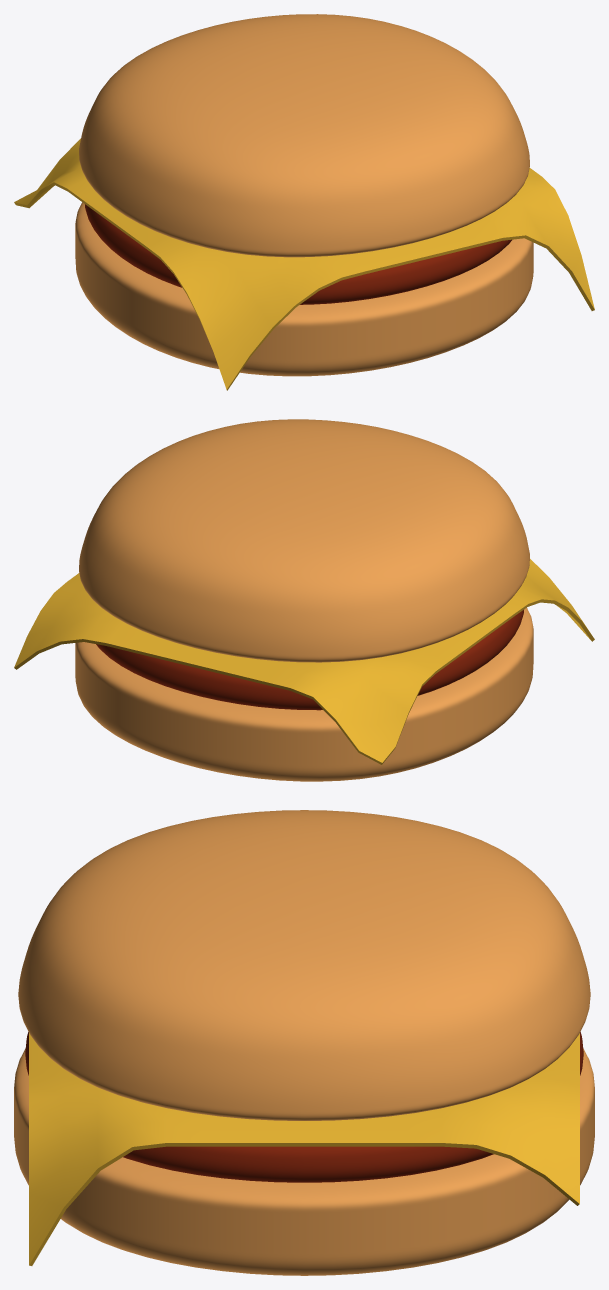
Rendered from hamburger.glb.
3 views of the same model, one above another, from view 1: azimuth 30°, elevation 25°; view 2: azimuth 150°, elevation 25°; view 3: azimuth 270°, elevation 25° (orthographic). The views are drawn at different scales.
Parts seen in each view (by area): view 1: Cube.003, Cube, Plane, Cube.002; view 2: Cube.003, Cube, Plane, Cube.002; view 3: Cube.003, Cube, Plane, Cube.002.
Boxes of the visible parts, <box> form: Cube.003: <box>79,14,529,257</box>; Cube: <box>75,202,533,376</box>; Plane: <box>14,138,594,390</box>; Cube.002: <box>85,204,511,304</box>; Cube.003: <box>79,419,529,662</box>; Cube: <box>75,608,533,781</box>; Plane: <box>14,559,594,764</box>; Cube.002: <box>96,610,523,710</box>; Cube.003: <box>18,810,590,1120</box>; Cube: <box>14,1048,594,1275</box>; Plane: <box>29,1033,579,1265</box>; Cube.002: <box>25,1032,583,1182</box>.
Size of the model in its own units: 9.03 by 5.22 by 9.03.
